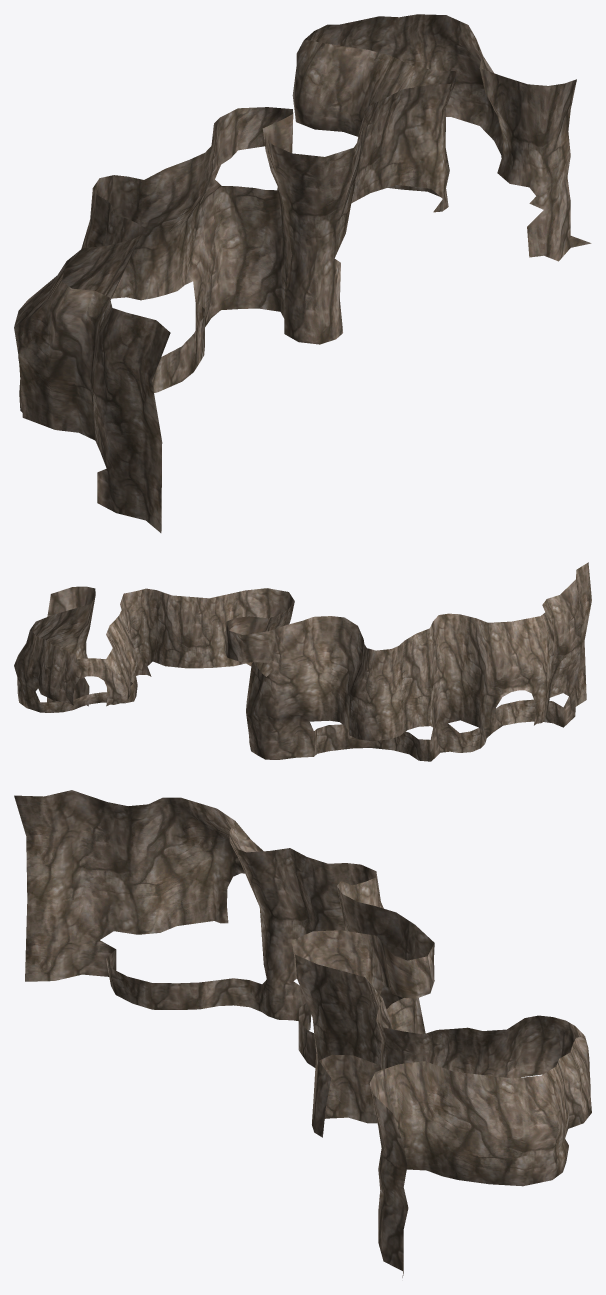
The model's file is EKH_CAVERNS_PS_CA_WALL_BACK_CAVE8384.fbx.
3 views of the same model, one above another, from view 1: azimuth 30°, elevation 25°; view 2: azimuth 150°, elevation 25°; view 3: azimuth 270°, elevation 25° (orthographic). The views are drawn at different scales.
Parts seen in each view (by area): view 1: EKH_CAVERNS_PS_CA_WALL_BACK_CAVE8384; view 2: EKH_CAVERNS_PS_CA_WALL_BACK_CAVE8384; view 3: EKH_CAVERNS_PS_CA_WALL_BACK_CAVE8384.
Part boxes in pixels (box(x1,y1,x2,y2)): EKH_CAVERNS_PS_CA_WALL_BACK_CAVE8384: box(14, 14, 591, 532); EKH_CAVERNS_PS_CA_WALL_BACK_CAVE8384: box(14, 562, 591, 761); EKH_CAVERNS_PS_CA_WALL_BACK_CAVE8384: box(14, 790, 591, 1277).
Bounding box in the file's own units: 384740 × 119392 × 309744.
1 material, 1 textured.
